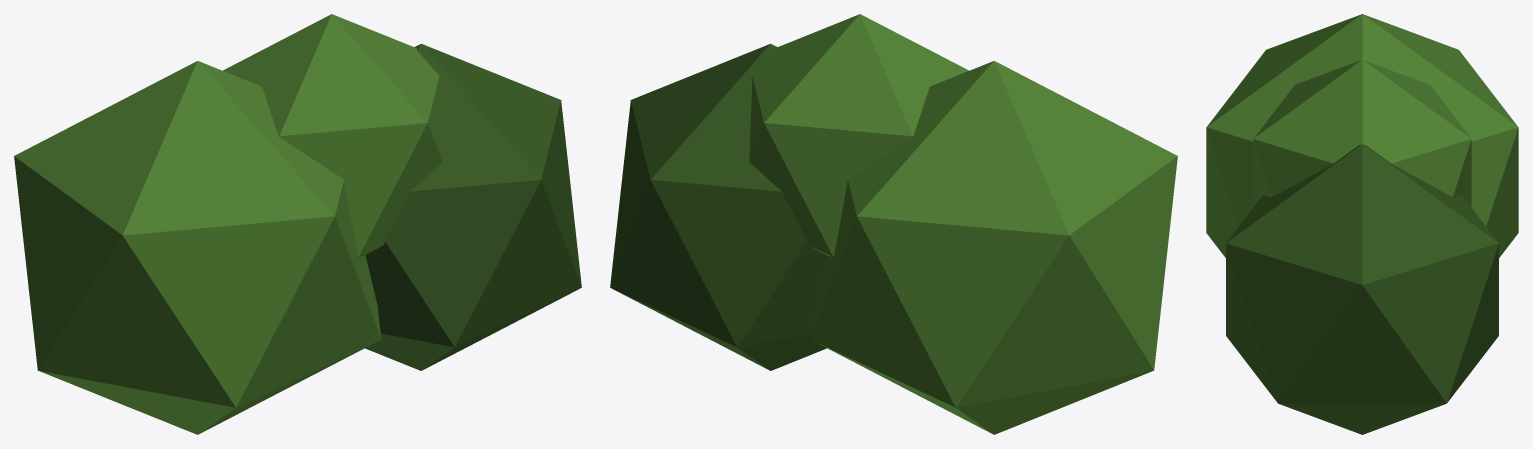
File: landscape.shrub.glb
3 renders of one model, left to right at view 1: azimuth 30°, elevation 25°; view 2: azimuth 150°, elevation 25°; view 3: azimuth 270°, elevation 25°, orthographic. The views are drawn at different scales.
Visible parts, largest first — view 1: landscape.shrub; view 2: landscape.shrub; view 3: landscape.shrub.
Part boxes in pixels (x1=…): landscape.shrub: x1=14, y1=14, x2=581, y2=434; landscape.shrub: x1=610, y1=14, x2=1177, y2=434; landscape.shrub: x1=1206, y1=14, x2=1518, y2=434.
Bounding box in the file's own units: 1.17 × 0.83 × 0.6805.
